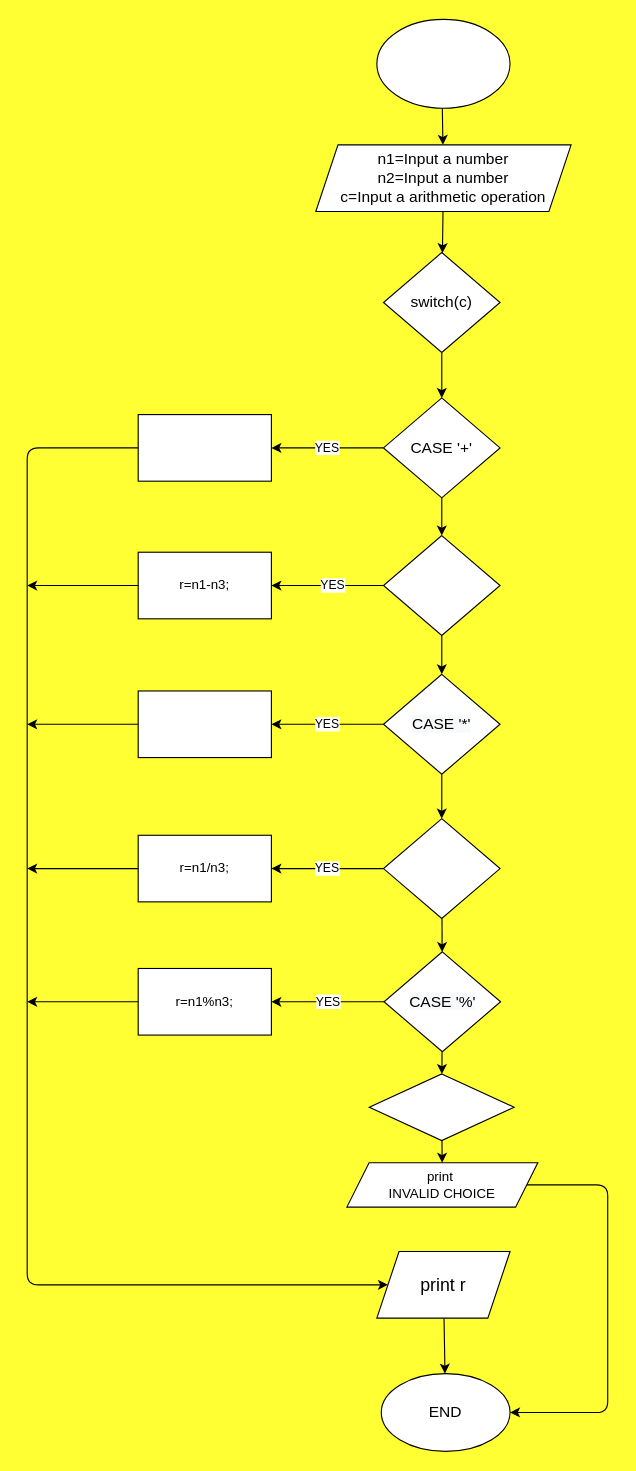
Image size: 636x1471. Some labels were removed from this diagram. Each missing label, with the centre of its shape:
CASE '-': (x=441, y=584)
CASE '/': (x=441, y=868)
CASE 'default': (x=441, y=1107)
r=n1*n3;: (x=204, y=724)
r=n1+n3;: (x=204, y=447)
START: (x=443, y=63)
